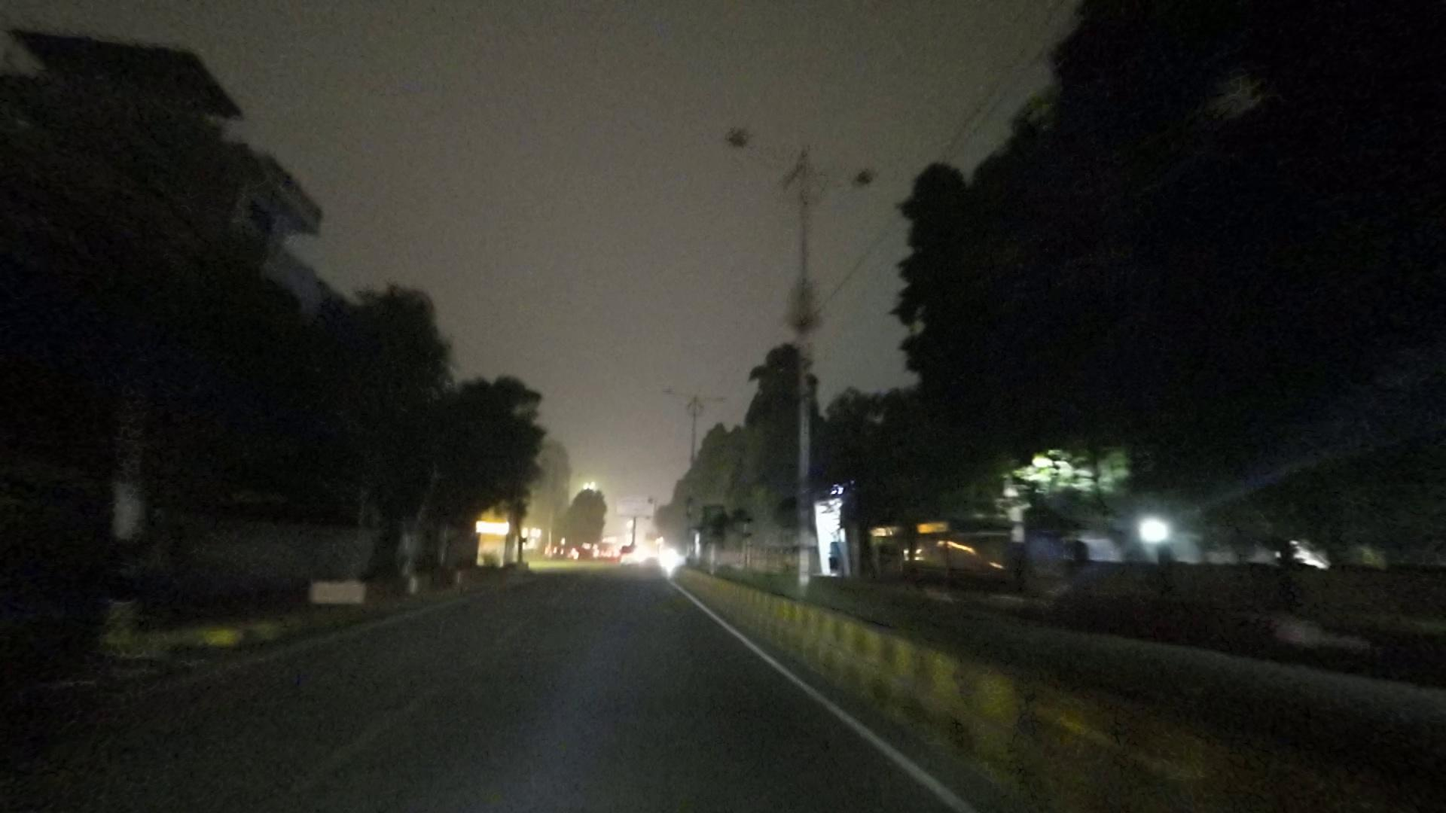streetlight: (717, 122, 793, 165), (819, 157, 878, 190)
